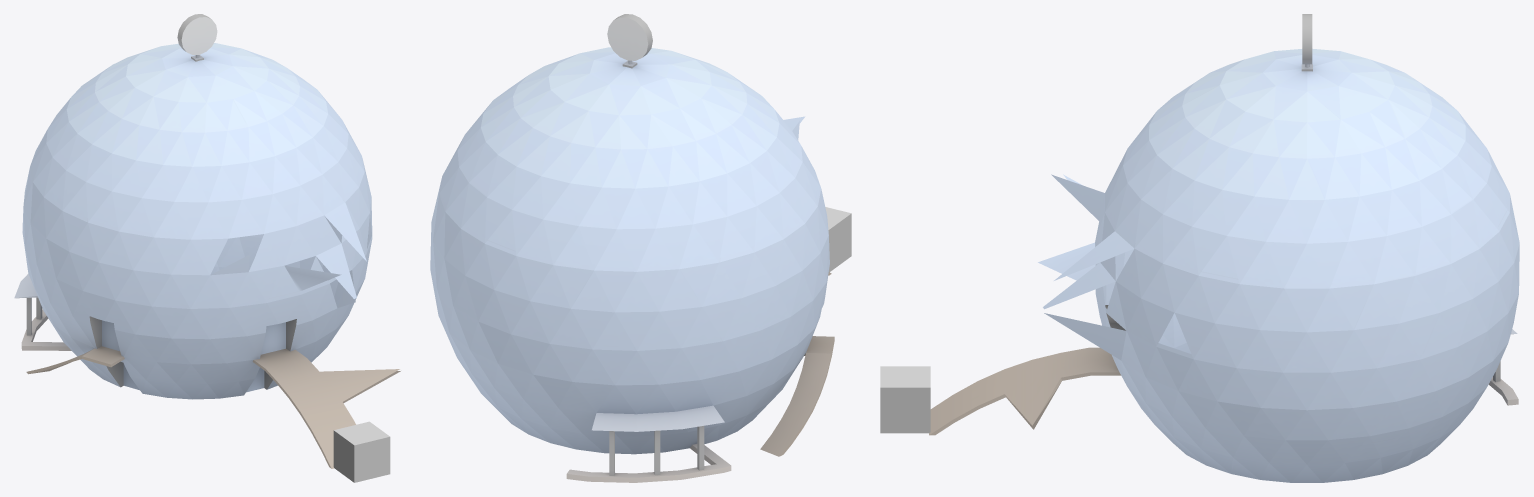
3 renders of one model, left to right at view 1: azimuth 30°, elevation 25°; view 2: azimuth 150°, elevation 25°; view 3: azimuth 270°, elevation 25°, orthographic. The views are drawn at different scales.
Parts seen in each view (by area): view 1: spherecafe, Cube; view 2: spherecafe, Cube; view 3: spherecafe, Cube.
Boxes of the visible parts, bbox=[...] form: spherecafe: bbox=[14, 14, 400, 468]; Cube: bbox=[333, 421, 390, 482]; spherecafe: bbox=[430, 14, 834, 482]; Cube: bbox=[825, 207, 851, 272]; spherecafe: bbox=[929, 14, 1519, 482]; Cube: bbox=[880, 366, 930, 433].
Size of the model in its own units: 17.06 by 17.8 by 25.37.
Materials: 2 (1 with a texture image).
